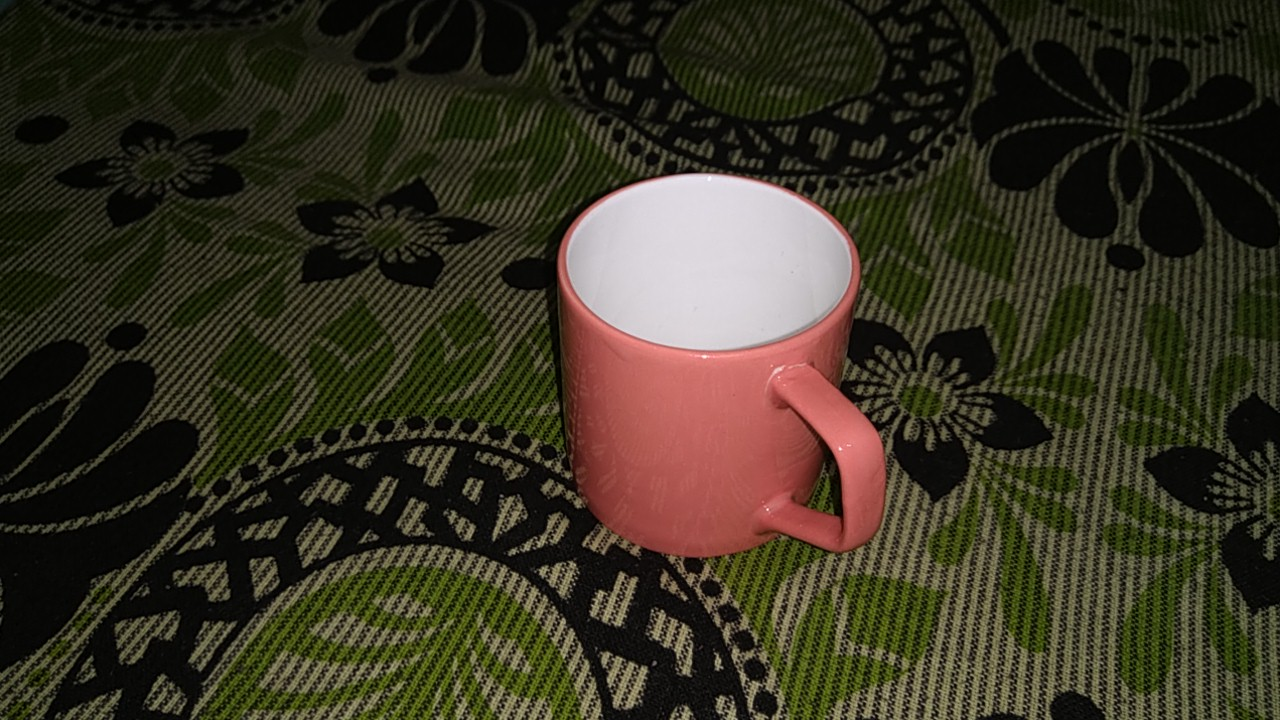cup: (518, 149, 936, 576)
